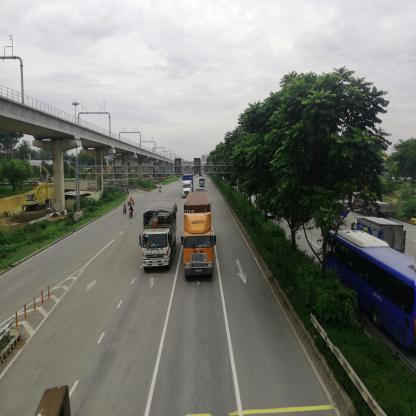bus: (328, 232, 416, 348)
container: (184, 193, 217, 283), (183, 175, 194, 197)
motorbike: (128, 198, 137, 206), (129, 207, 134, 221), (123, 205, 127, 215)
truck: (140, 202, 177, 275), (353, 193, 399, 219), (201, 177, 206, 187)
